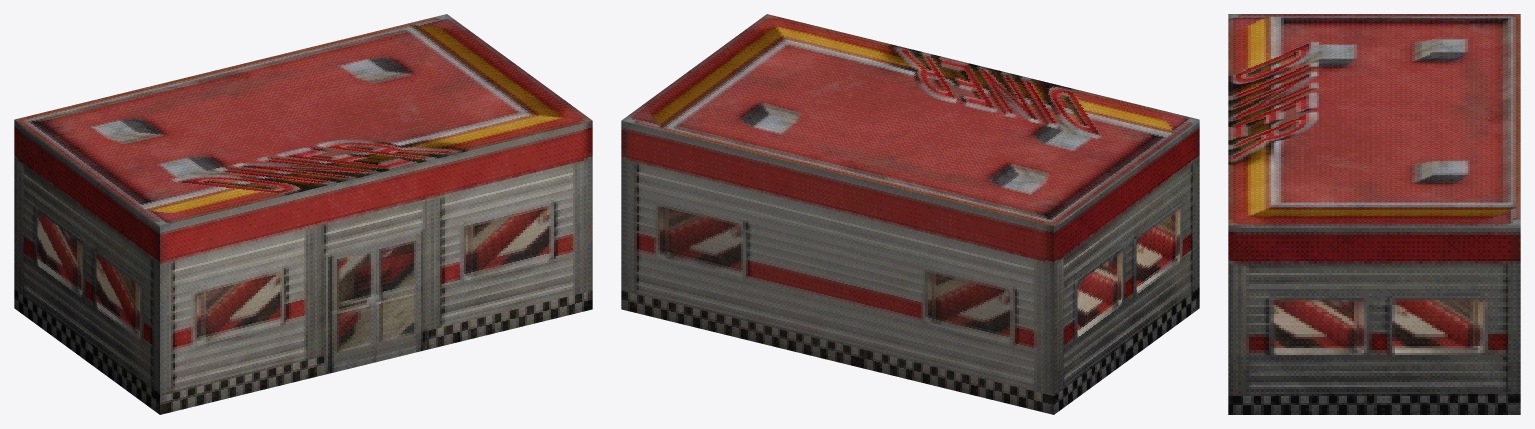
The model's file is diner.glb.
3 views of the same model, side by side, from view 1: azimuth 30°, elevation 25°; view 2: azimuth 150°, elevation 25°; view 3: azimuth 270°, elevation 25° (orthographic).
Visible parts, largest first — view 1: 1950s American Roadside; view 2: 1950s American Roadside; view 3: 1950s American Roadside.
Part boxes in pixels (<box>): 1950s American Roadside: <box>14,14,592,414</box>; 1950s American Roadside: <box>621,14,1199,414</box>; 1950s American Roadside: <box>1228,14,1520,414</box>.
Bounding box in the file's own units: 12 × 5 × 7.
1 material, 1 textured.
